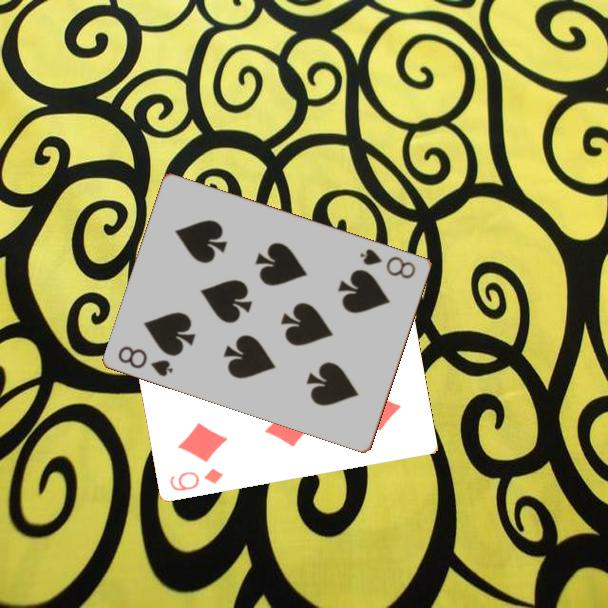d06: (166, 465, 226, 494)
s08: (357, 245, 419, 282), (115, 342, 177, 379)
